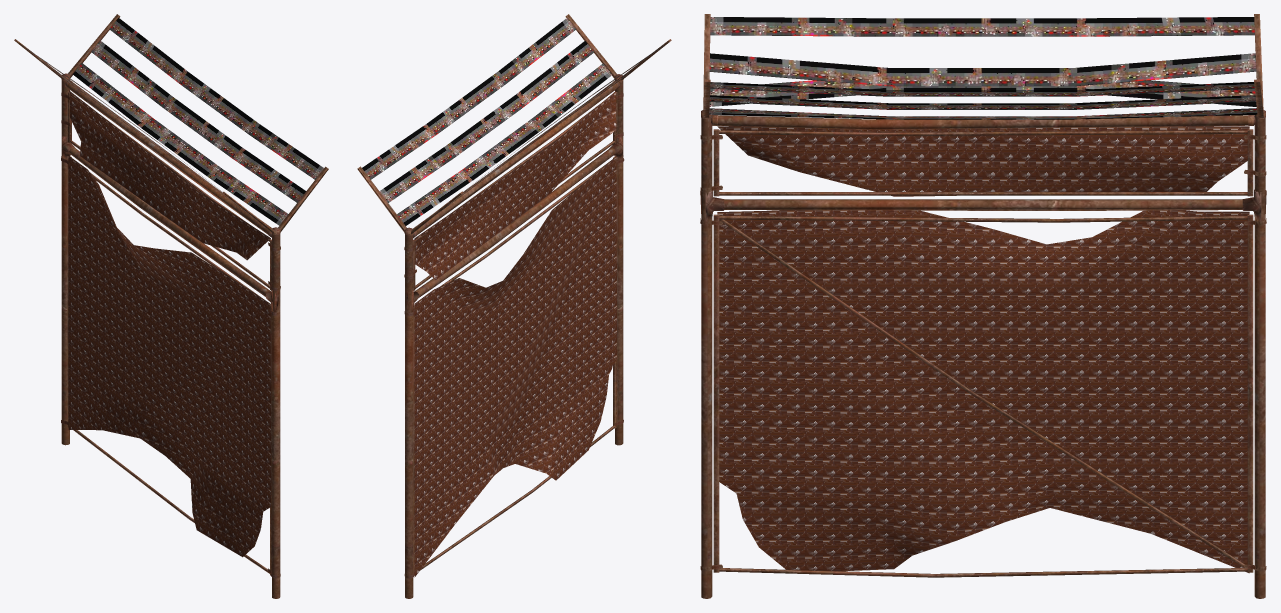
File: chainlink_fence_3x3.glb
3 renders of one model, left to right at view 1: azimuth 30°, elevation 25°; view 2: azimuth 150°, elevation 25°; view 3: azimuth 270°, elevation 25°, orthographic. The views are drawn at different scales.
Visible parts, largest first — view 1: chainlink_fence_3x3_LOD0; view 2: chainlink_fence_3x3_LOD0; view 3: chainlink_fence_3x3_LOD0.
Part boxes in pixels (x1,y1,x2,y2): chainlink_fence_3x3_LOD0: (14,14,328,598); chainlink_fence_3x3_LOD0: (357,14,671,598); chainlink_fence_3x3_LOD0: (700,14,1266,598).
Size of the model in its own units: 0.8425 by 3.21 by 3.
2 materials, 2 textured.
